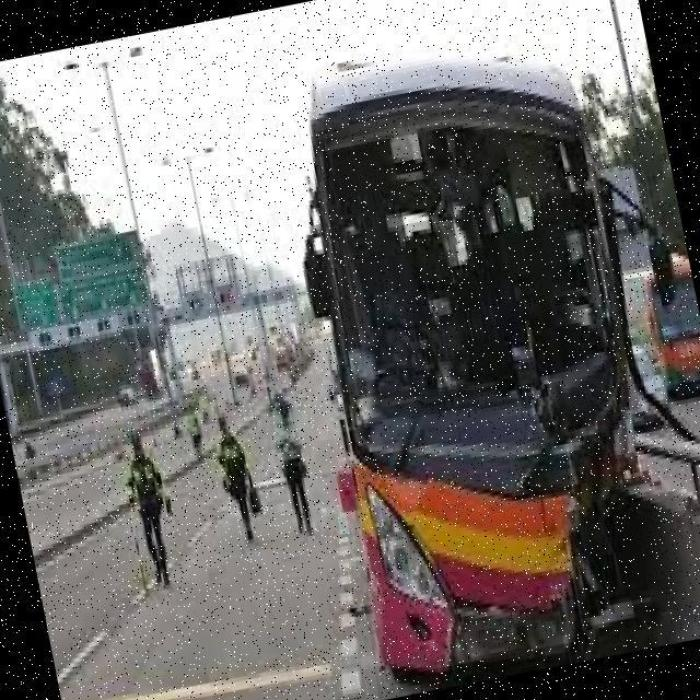Accident: (279, 33, 700, 697)
